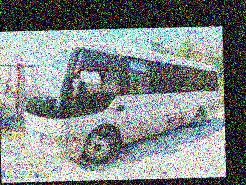bus: (21, 40, 220, 165)
